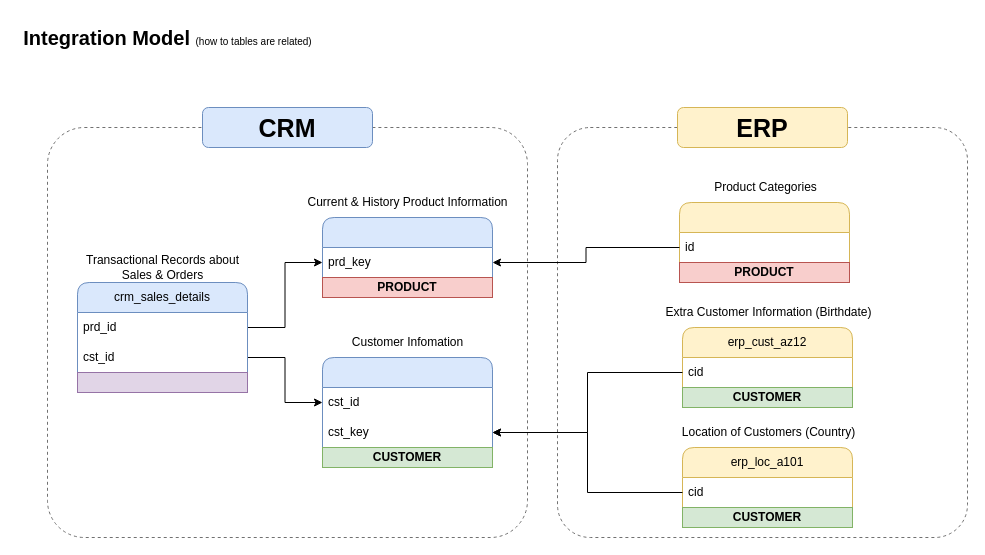
Some shapes in this 985 by 555 pixel diagram are drawn without their labels. The shapes that lost their labels are listed below. From the top down, each one's box as (x1, y1, x2, y2) in pixels, then its label:
(322, 216, 492, 298): crm_prd_info
(678, 202, 850, 282): erp_px_cat_g1v2
(76, 372, 248, 392): SALES
(322, 356, 492, 468): crm_cust_info
